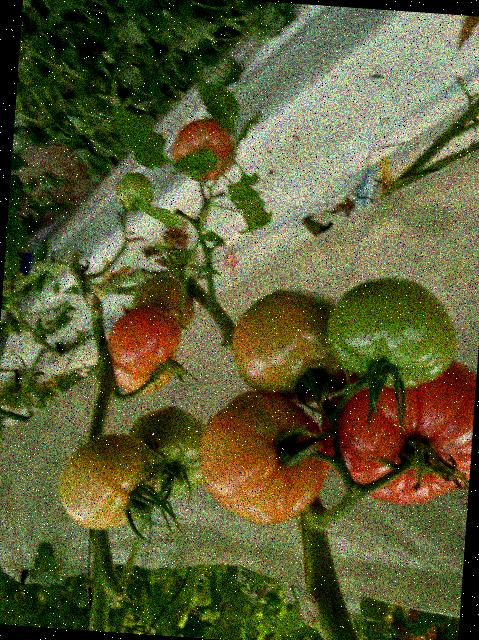b_fully_ripened: (313, 349, 477, 509)
b_green: (323, 271, 461, 394), (226, 285, 353, 407), (54, 429, 159, 533), (124, 403, 207, 497), (131, 275, 197, 330)
b_half_ripened: (193, 388, 335, 529), (106, 303, 183, 380), (112, 350, 176, 396)
